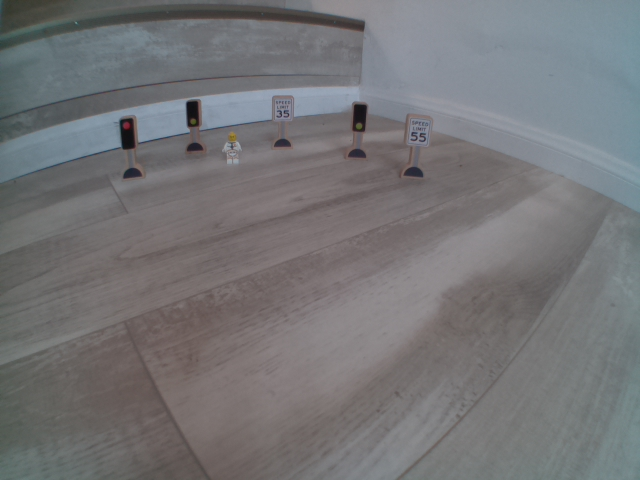Green Traffic Light: (182, 94, 202, 133), (354, 104, 368, 134)
Red Traffic Light: (113, 115, 143, 155)
Speed Limit 35: (271, 87, 294, 126)
Speed Limit 55: (398, 107, 435, 151)
person: (221, 129, 248, 171)
